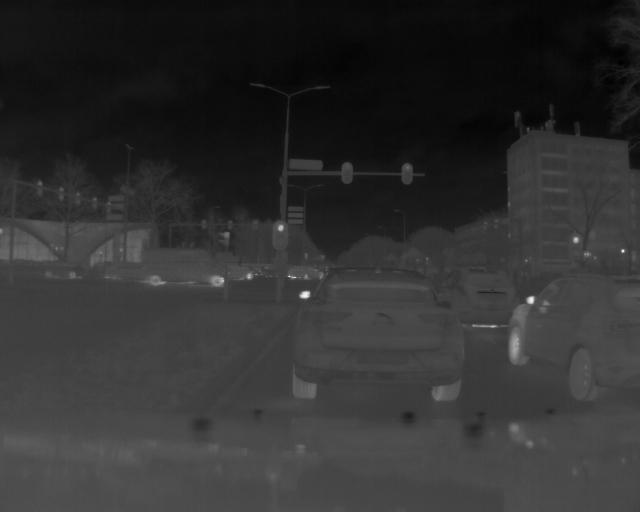car: (302, 261, 467, 406), (511, 278, 640, 400), (41, 259, 87, 282), (290, 265, 324, 284)
